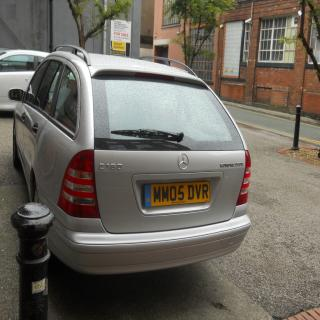license: (137, 179, 222, 223)
